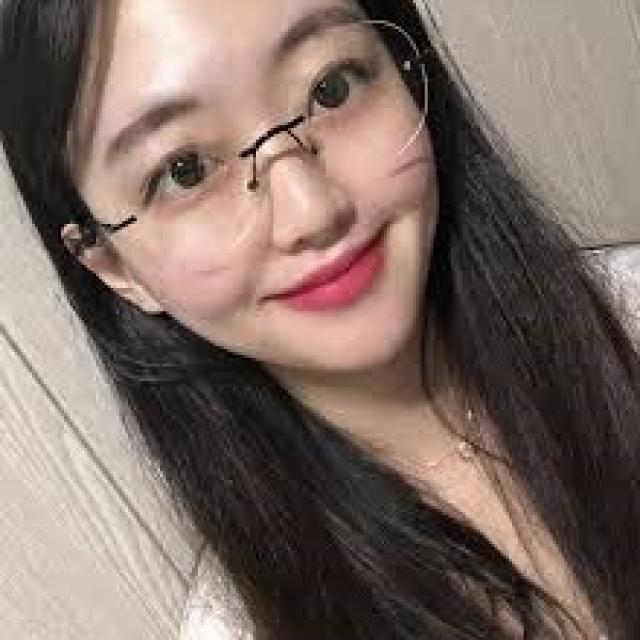Glasses: (52, 12, 436, 276)
